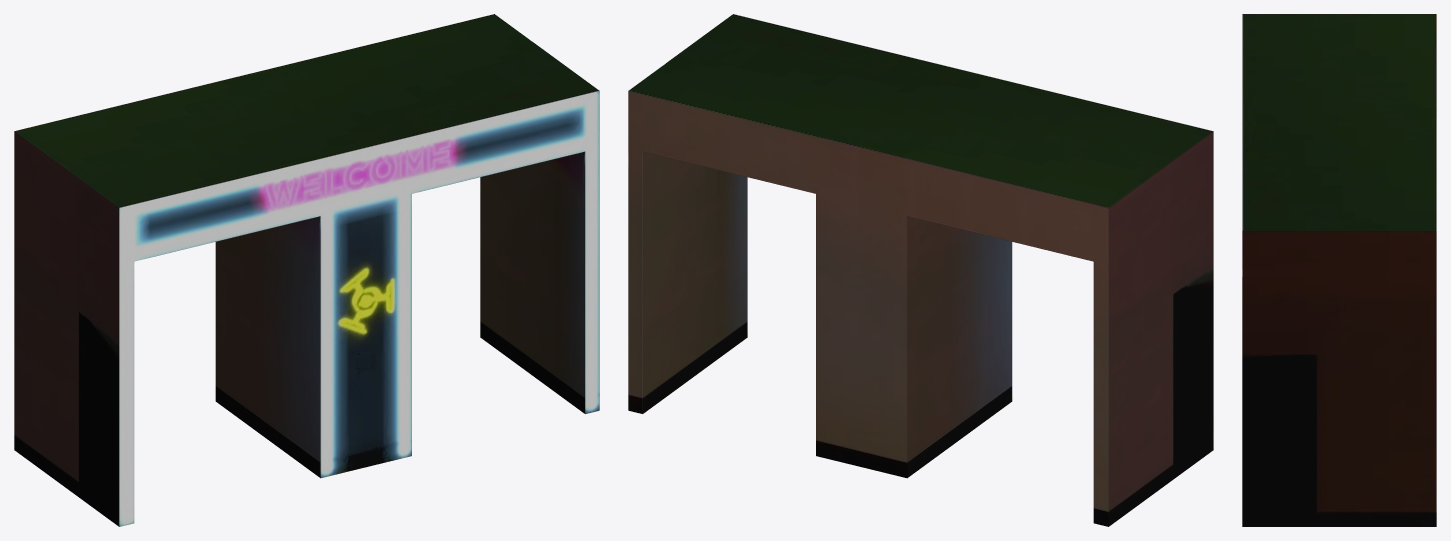
File: EntranceGate-transformed.glb
3 views of the same model, side by side, from view 1: azimuth 30°, elevation 25°; view 2: azimuth 150°, elevation 25°; view 3: azimuth 270°, elevation 25° (orthographic). The views are drawn at different scales.
Visible parts, largest first — view 1: Cube.580; view 2: Cube.580; view 3: Cube.580.
Boxes of the visible parts, x1=… form: Cube.580: x1=14, y1=14, x2=599, y2=526; Cube.580: x1=628, y1=14, x2=1213, y2=526; Cube.580: x1=1242, y1=14, x2=1436, y2=526.
Bounding box in the file's own units: 263 × 168 × 99.7.
1 material, 1 textured.
